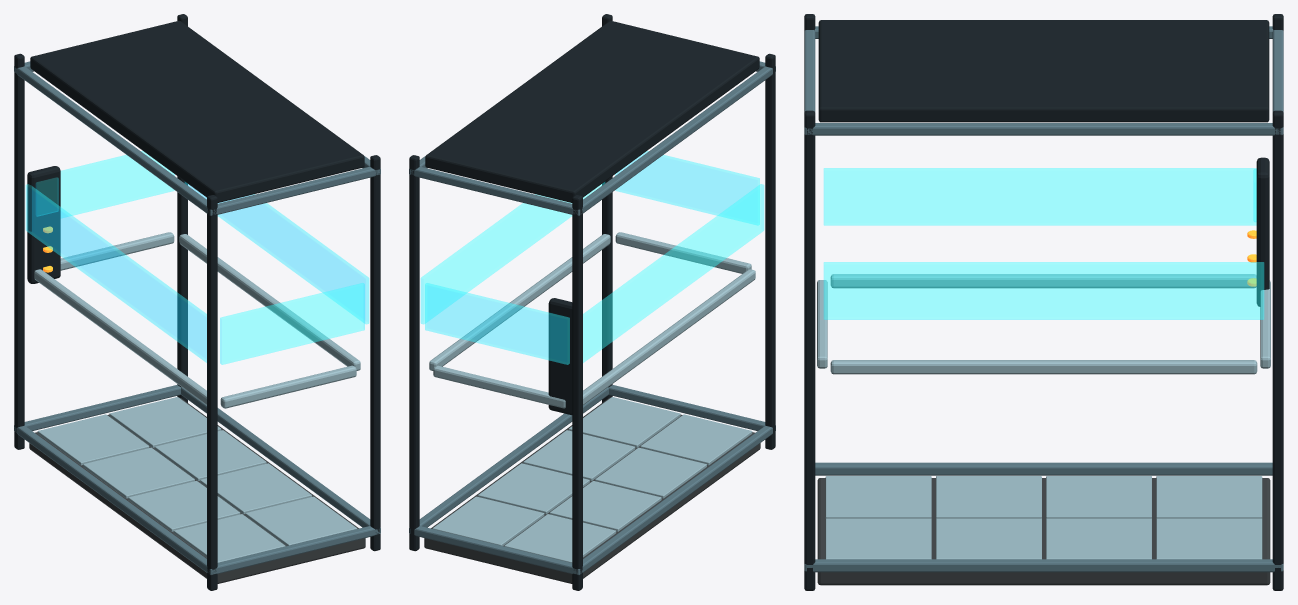
Rendered from 06_glass_1x2.glb.
3 views of the same model, side by side, from view 1: azimuth 30°, elevation 25°; view 2: azimuth 150°, elevation 25°; view 3: azimuth 270°, elevation 25° (orthographic). The views are drawn at different scales.
Visible parts, largest first — view 1: Ceiling_Frame, Glass_Band_West.001, Glass_Band_North.001, Glass_Band_East.001, Glass_Band_South.001, Corner_Post_-1_-1, Corner_Post_1_-1, Corner_Post_-1_1, Floor_Base.005, Cabin_Control_Housing, Floor_Plate_0_3.002, Floor_Plate_0_2.002 (+17 smaller); view 2: Ceiling_Frame, Glass_Band_West.001, Glass_Band_South.001, Glass_Band_East.001, Glass_Band_North.001, Corner_Post_-1_1, Corner_Post_1_1, Corner_Post_-1_-1, Floor_Base.005, Floor_Plate_0_0.005, Floor_Plate_0_1.005, Floor_Plate_1_3.002 (+17 smaller); view 3: Ceiling_Frame, Glass_Band_East.001, Glass_Band_West.001, Floor_Base.005, Lower_Rail_East.005, Lower_Rail_West.005, Handrail_East.005, Handrail_West.005, Upper_Rail_East.005, Corner_Post_1_1, Corner_Post_1_-1, Floor_Plate_0_0.005 (+12 smaller).
Part boxes in pixels (x1,y1,x2,y2): Ceiling_Frame: [30, 21, 364, 202]; Glass_Band_West.001: [26, 184, 206, 362]; Glass_Band_North.001: [220, 283, 364, 364]; Glass_Band_East.001: [185, 182, 368, 324]; Glass_Band_South.001: [61, 151, 174, 217]; Corner_Post_-1_-1: [207, 195, 217, 590]; Corner_Post_1_-1: [370, 155, 380, 551]; Corner_Post_-1_1: [14, 53, 24, 449]; Floor_Base.005: [29, 397, 365, 583]; Cabin_Control_Housing: [27, 166, 60, 283]; Floor_Plate_0_3.002: [37, 414, 149, 465]; Floor_Plate_0_2.002: [83, 447, 194, 498]; Ceiling_Frame: [425, 21, 759, 202]; Glass_Band_West.001: [583, 184, 763, 362]; Glass_Band_South.001: [425, 283, 569, 364]; Glass_Band_East.001: [421, 182, 604, 324]; Glass_Band_North.001: [615, 151, 759, 225]; Corner_Post_-1_1: [572, 195, 582, 590]; Corner_Post_1_1: [409, 155, 419, 551]; Corner_Post_-1_-1: [765, 53, 775, 449]; Floor_Base.005: [424, 397, 760, 583]; Floor_Plate_0_0.005: [640, 414, 752, 465]; Floor_Plate_0_1.005: [595, 447, 706, 498]; Floor_Plate_1_3.002: [432, 496, 544, 545]; Ceiling_Frame: [818, 20, 1269, 122]; Glass_Band_East.001: [824, 262, 1263, 319]; Glass_Band_West.001: [824, 168, 1256, 225]; Floor_Base.005: [817, 478, 1270, 585]; Lower_Rail_East.005: [805, 559, 1283, 572]; Lower_Rail_West.005: [815, 462, 1272, 475]; Handrail_East.005: [830, 360, 1257, 374]; Handrail_West.005: [830, 274, 1256, 288]; Upper_Rail_East.005: [805, 123, 1283, 135]; Corner_Post_1_1: [1272, 110, 1283, 590]; Corner_Post_1_-1: [804, 110, 815, 590]; Floor_Plate_0_0.005: [825, 476, 931, 518].
Size of the model in its own units: 1 by 2.2 by 2.
